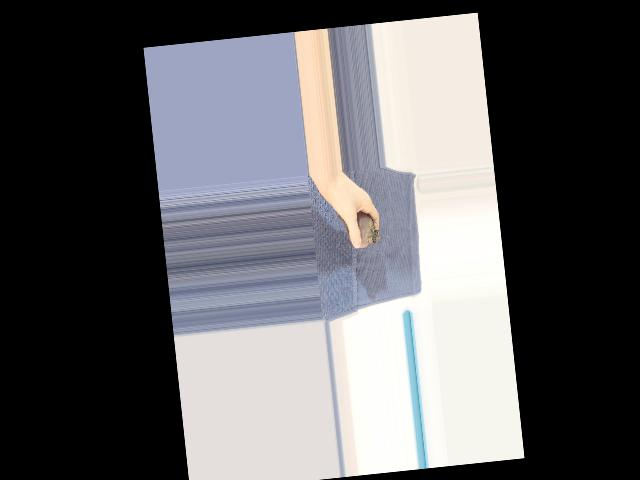beet: (333, 210, 380, 251)
